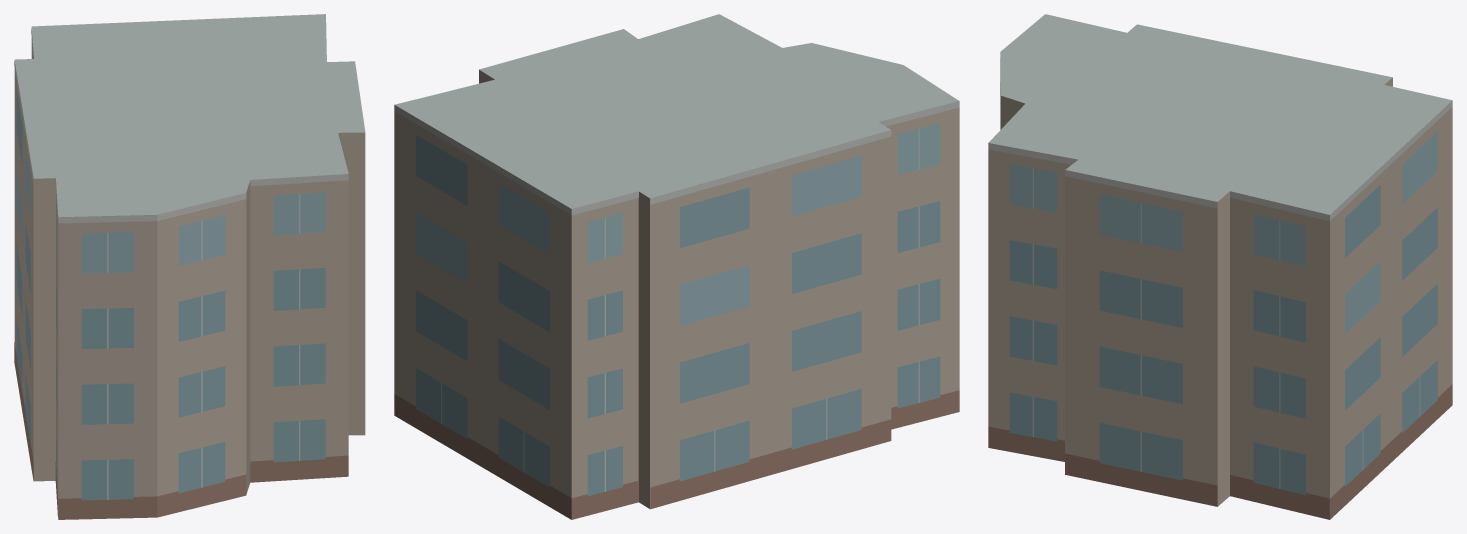
The model's file is survey-upis-32941522.glb.
The picture shows the model from 3 angles, left to right: view 1: azimuth 30°, elevation 25°; view 2: azimuth 150°, elevation 25°; view 3: azimuth 270°, elevation 25°; orthographic projection. The views are drawn at different scales.
Parts seen in each view (by area): view 1: survey-upis-32941522.tmp; view 2: survey-upis-32941522.tmp; view 3: survey-upis-32941522.tmp.
Boxes of the visible parts, <box> form: survey-upis-32941522.tmp: <box>14,14,365,519</box>; survey-upis-32941522.tmp: <box>394,14,959,519</box>; survey-upis-32941522.tmp: <box>988,14,1452,519</box>.
Bounding box in the file's own units: 16.55 × 11.7 × 16.16.
